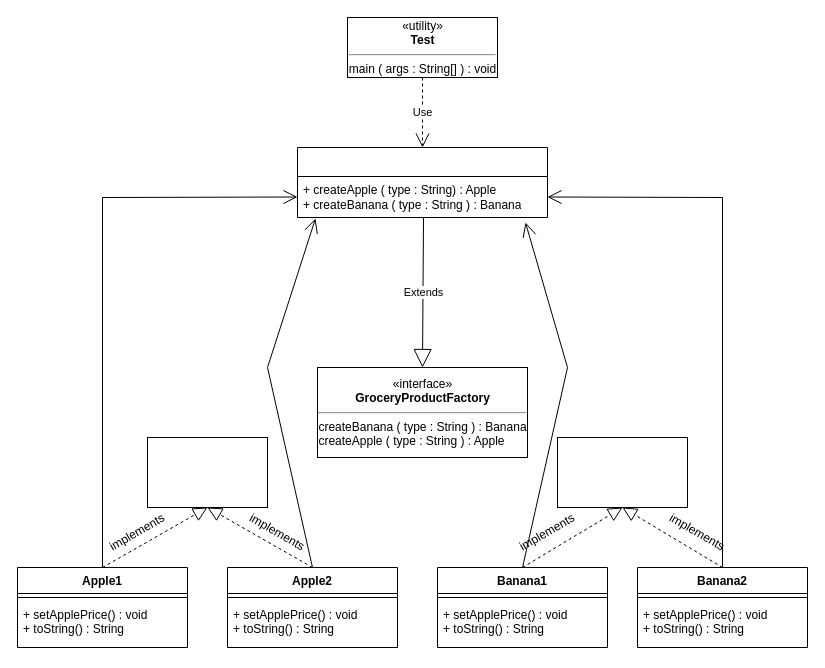
The diagram is 825 pixels wide and 668 high, and some of its shapes have lost their labels. Each missing label, with the box of its shape:
Factory: (296, 146, 548, 218)
«interface» Apple setApplePrice() : void: (146, 436, 268, 508)
«interface» Banana setBananaPrice() : void: (556, 436, 688, 508)
